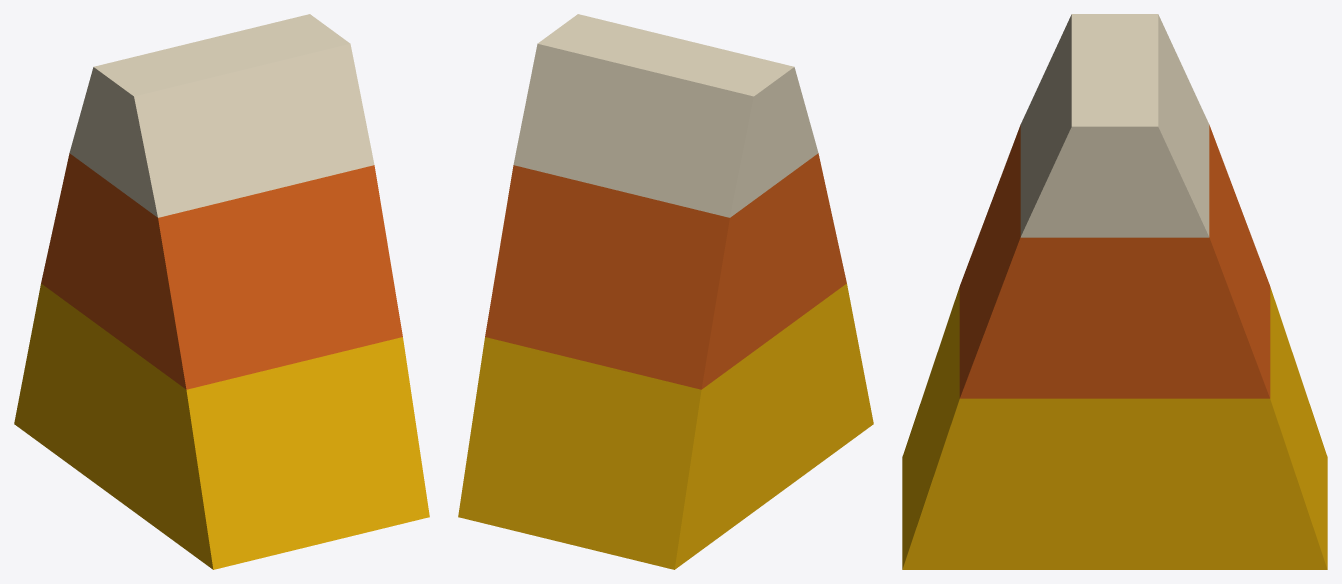
The model's file is CANDY_CORN.glb.
3 renders of one model, left to right at view 1: azimuth 30°, elevation 25°; view 2: azimuth 150°, elevation 25°; view 3: azimuth 270°, elevation 25°, orthographic. The views are drawn at different scales.
Visible parts, largest first — view 1: plastic_0, pumpkin_1, bone_2; view 2: plastic_0, pumpkin_1, bone_2; view 3: plastic_0, pumpkin_1, bone_2.
Part boxes in pixels (<box>): plastic_0: <box>14,283,429,569</box>; pumpkin_1: <box>41,153,402,389</box>; bone_2: <box>69,14,374,217</box>; plastic_0: <box>458,283,873,569</box>; pumpkin_1: <box>485,153,846,389</box>; bone_2: <box>513,14,818,217</box>; plastic_0: <box>902,287,1327,569</box>; pumpkin_1: <box>959,125,1270,398</box>; bone_2: <box>1020,14,1209,237</box>.
Bounding box in the file's own units: 0.024 × 0.044 × 0.0383.
